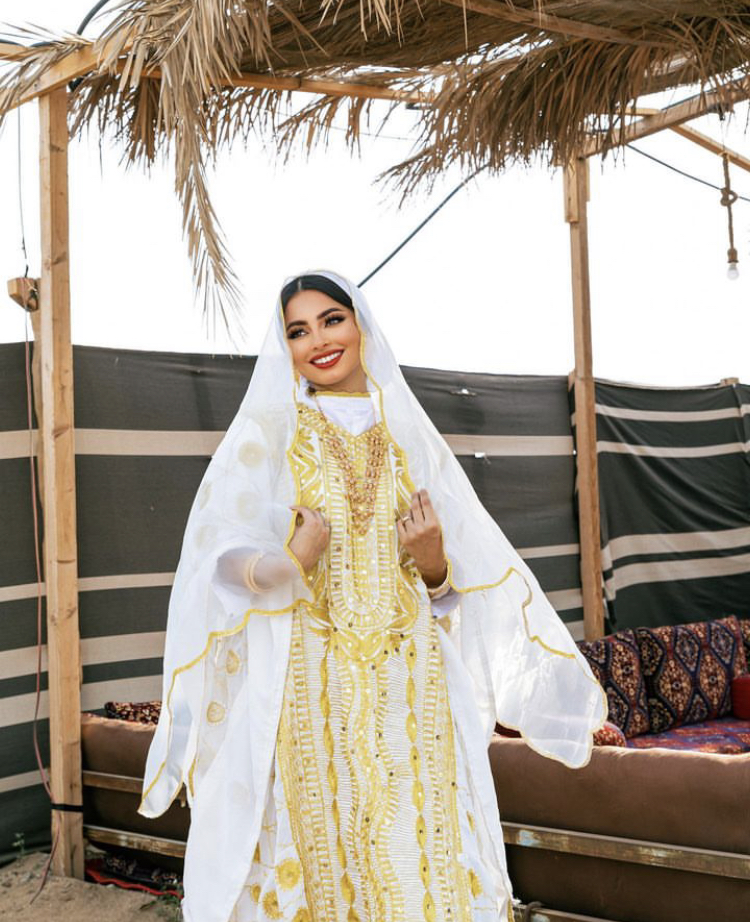Saudi_Founding_Day: (131, 266, 612, 922)
